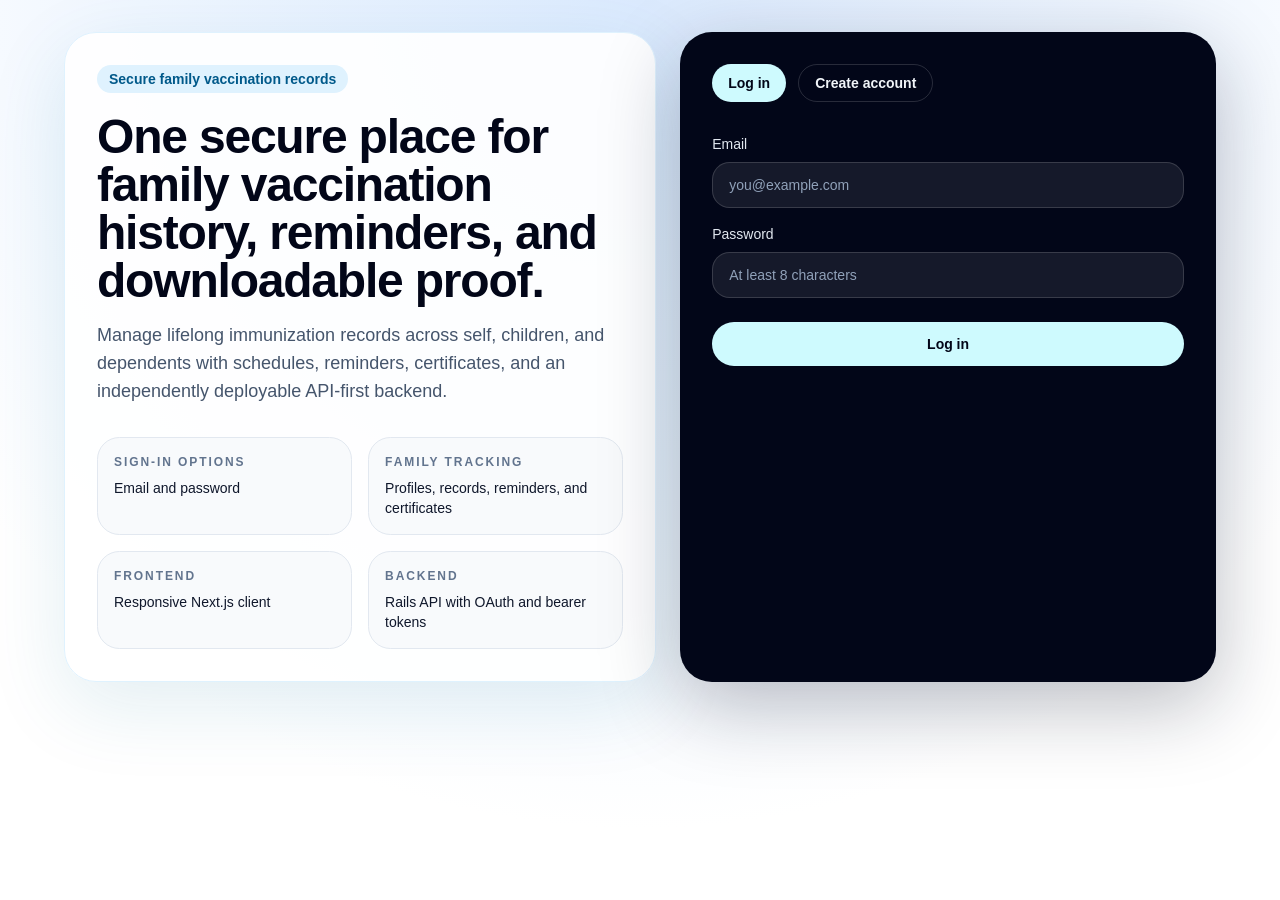
Test: AuthShell › shows auth errors returned by login
In the field labelled "Email": (948, 185) [712,162,1184,208], type "user@example.com"
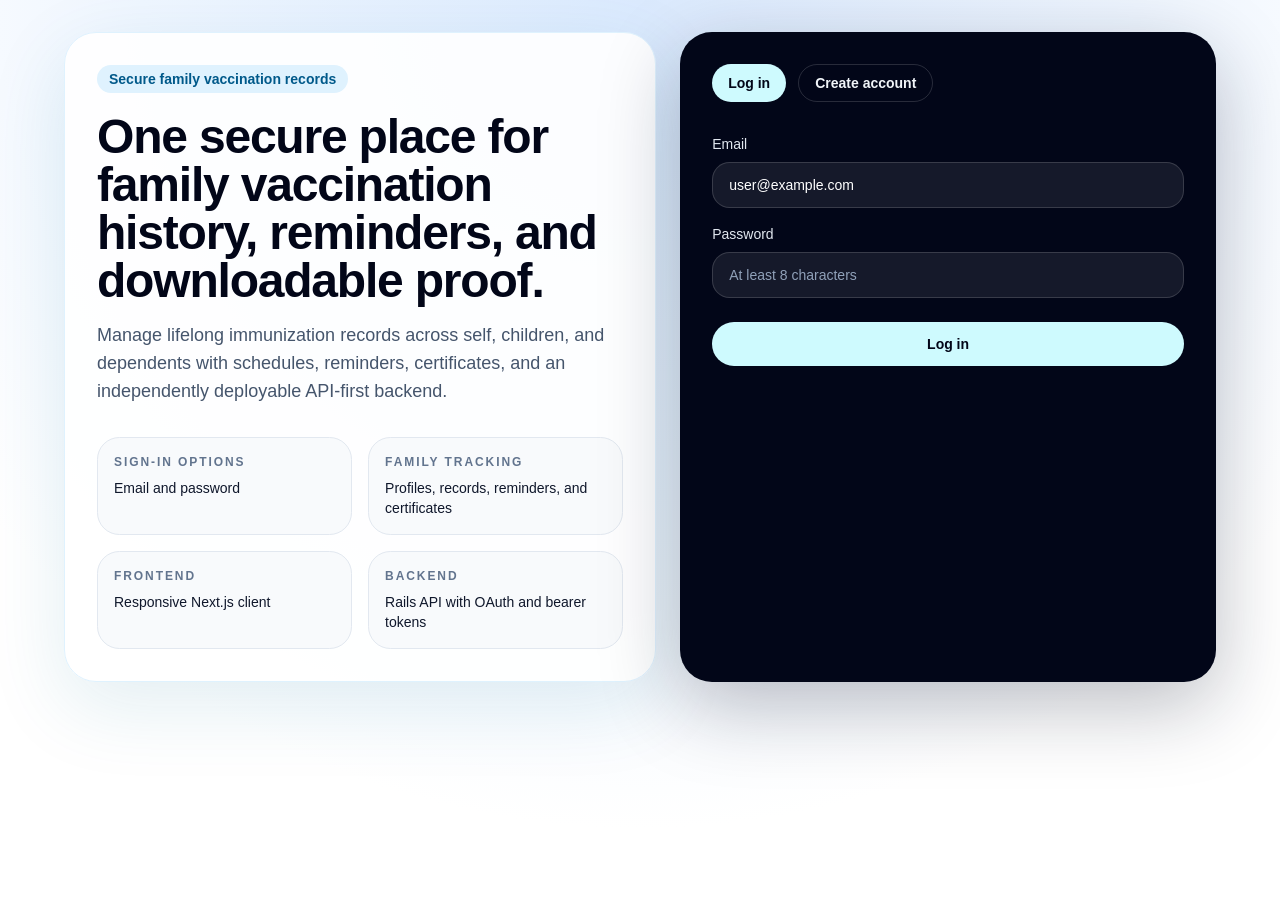
In the password field labelled "Password": (948, 275) [712,252,1184,298], type "bad-password"
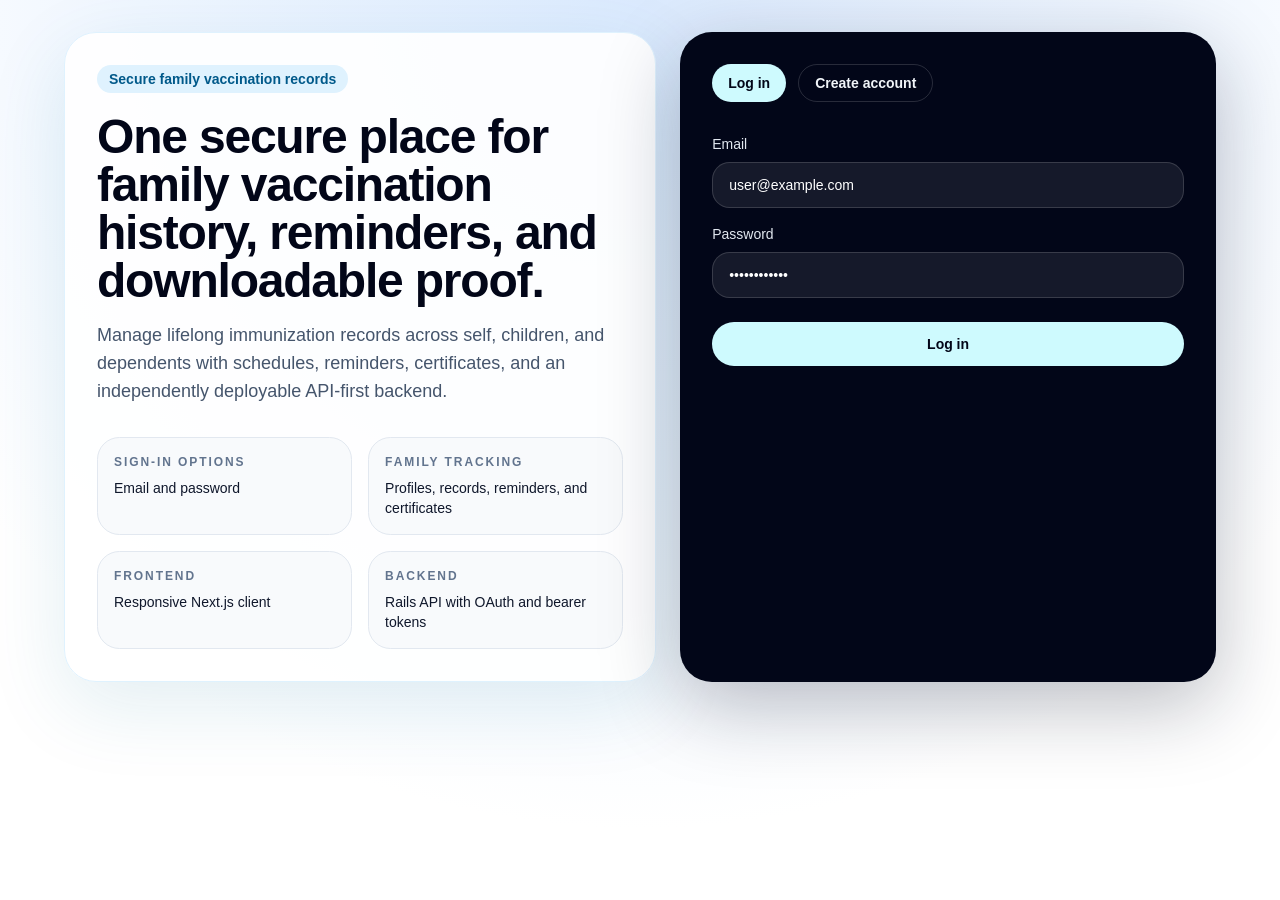
Click the 2nd button "Log in": (948, 344) [712,322,1184,366]
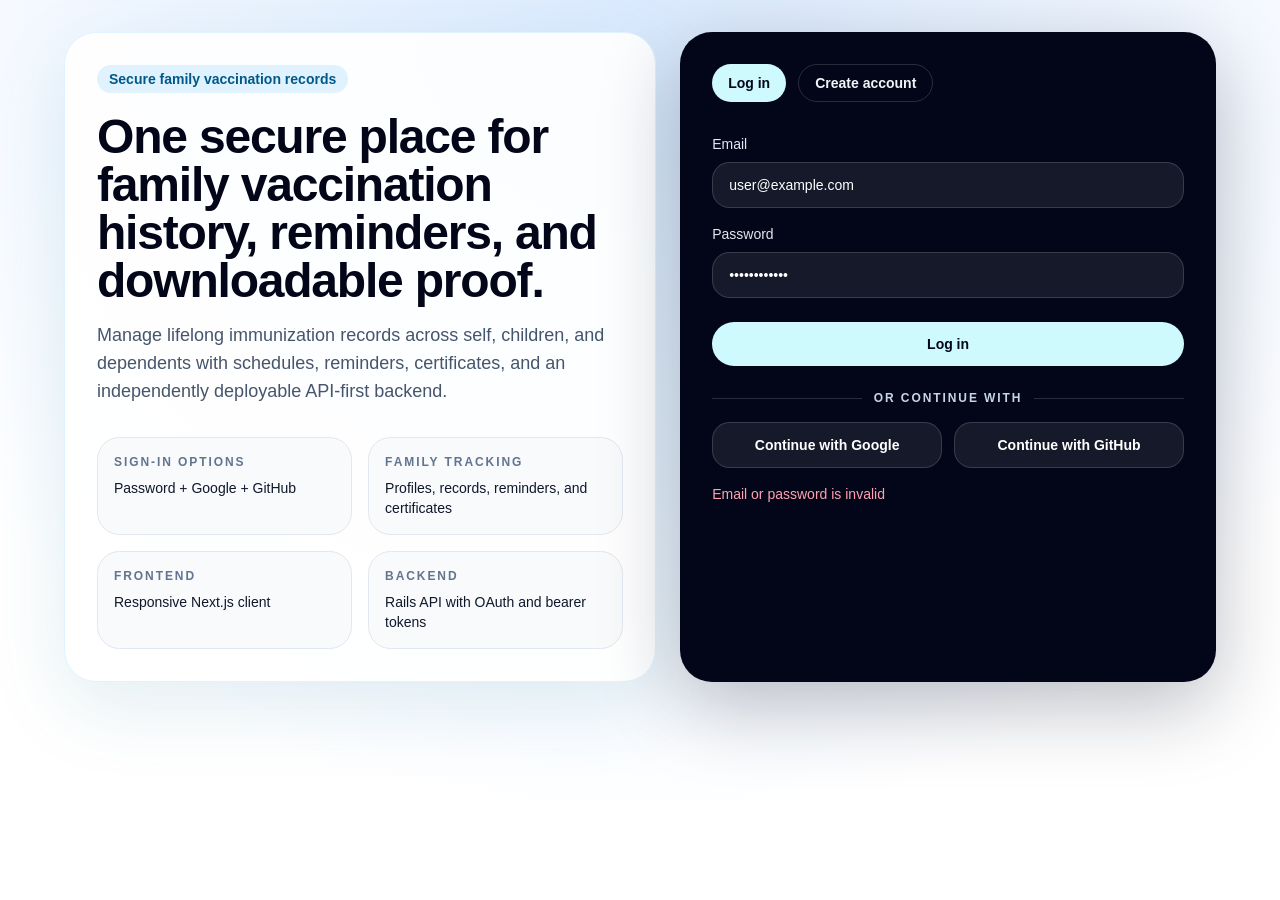
Expected: the text "Email or password is invalid" is shown, [712,486,885,502]
